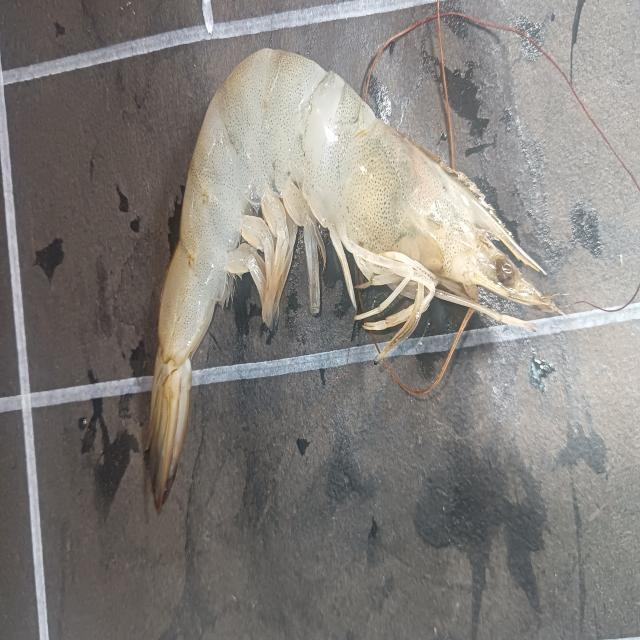shrimp: (149, 49, 558, 509)
